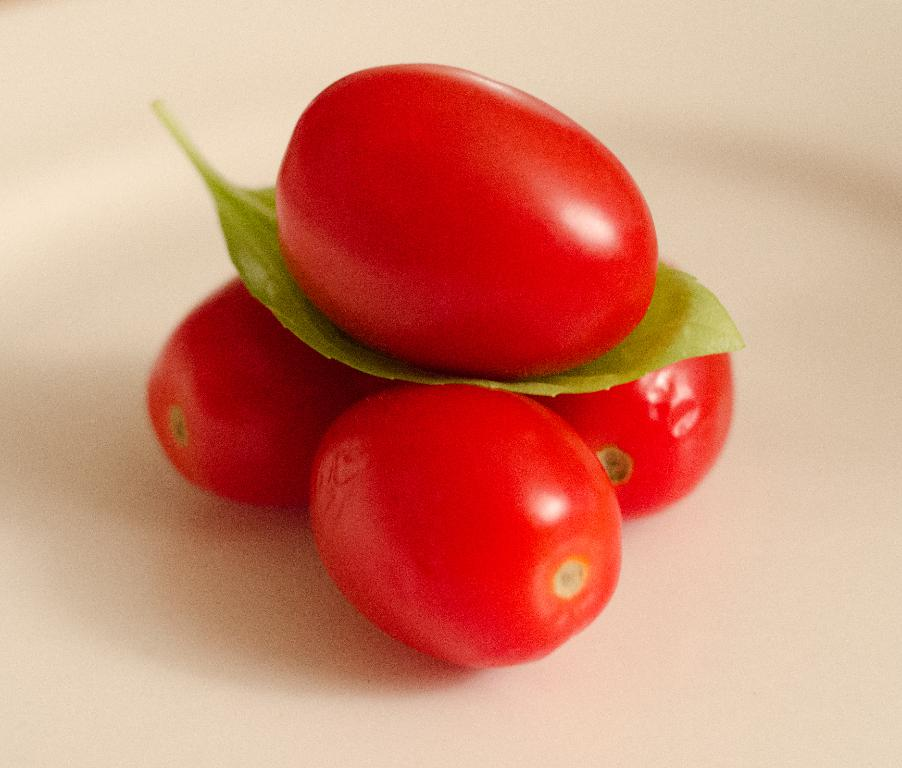Tomato: (273, 59, 660, 378), (279, 373, 625, 668), (155, 272, 419, 516), (536, 346, 737, 511)
